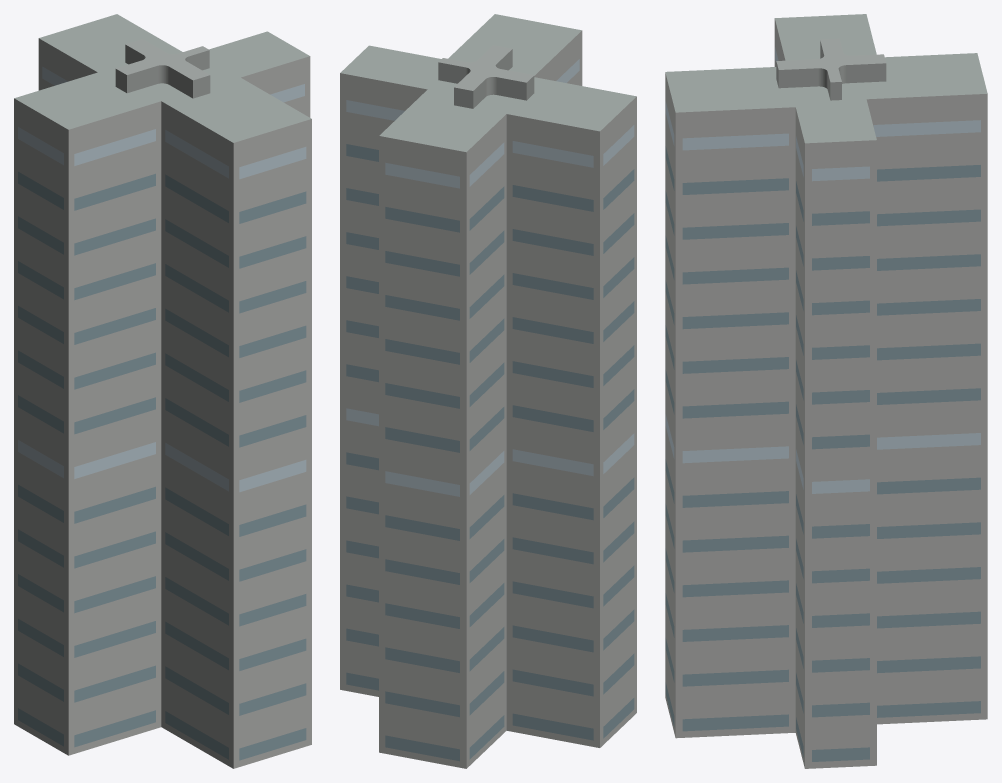
Rendered from fallback-acro-riverview-105.glb.
The picture shows the model from 3 angles, left to right: view 1: azimuth 30°, elevation 25°; view 2: azimuth 150°, elevation 25°; view 3: azimuth 270°, elevation 25°; orthographic projection.
Parts seen in each view (by area): view 1: fallback-acro-riverview-105; view 2: fallback-acro-riverview-105; view 3: fallback-acro-riverview-105.
Part boxes in pixels (box(x1,y1,x2,y2)): fallback-acro-riverview-105: box(14, 14, 311, 768); fallback-acro-riverview-105: box(340, 14, 636, 768); fallback-acro-riverview-105: box(665, 14, 987, 768).
Size of the model in its own units: 36.63 by 85 by 38.58.
